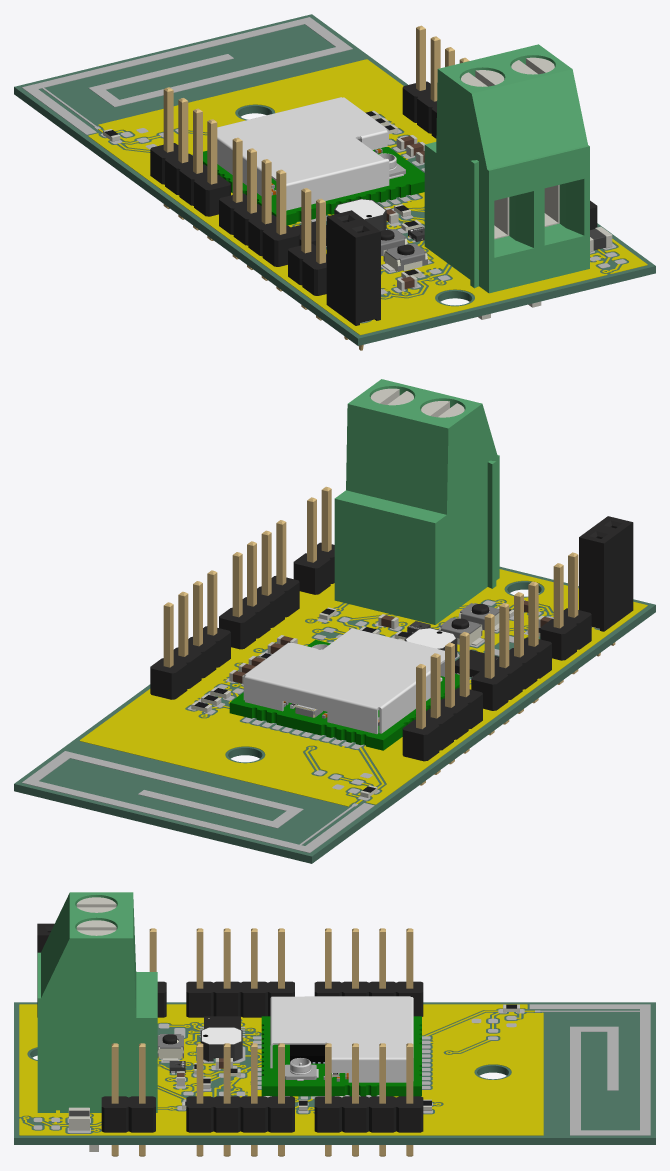
The model's file is SmartPot_assemble.glb.
The picture shows the model from 3 angles, top to bottom: view 1: azimuth 30°, elevation 25°; view 2: azimuth 150°, elevation 25°; view 3: azimuth 270°, elevation 25°; orthographic projection. The views are drawn at different scales.
Visible parts, largest first — view 1: =>[0:1:1:101], =>[0:1:1:107], =>[0:1:1:104], =>[0:1:1:7], =>[0:1:1:103] (×3), =>[0:1:1:105], =>[0:1:1:91], =>[0:1:1:97], =>[0:1:1:95], =>[0:1:1:5]; view 2: =>[0:1:1:101], =>[0:1:1:104], =>[0:1:1:107], =>[0:1:1:103] (×4), =>[0:1:1:7], =>[0:1:1:105], =>[0:1:1:97] (×2), =>[0:1:1:91], =>[0:1:1:5], =>[0:1:1:95]; view 3: =>[0:1:1:104], =>[0:1:1:107], =>[0:1:1:101], =>[0:1:1:103] (×4), =>[0:1:1:7], =>[0:1:1:105], =>[0:1:1:97] (×2), =>[0:1:1:5], =>[0:1:1:95], =>[0:1:1:93], =>[0:1:1:99], =>[0:1:1:91].
Part boxes in pixels (bbox=[...]): =>[0:1:1:101]: bbox=[424, 44, 589, 319]; =>[0:1:1:107]: bbox=[14, 14, 655, 345]; =>[0:1:1:104]: bbox=[88, 59, 647, 335]; =>[0:1:1:7]: bbox=[203, 97, 424, 225]; =>[0:1:1:103] (×3): bbox=[150, 25, 469, 291]; =>[0:1:1:105]: bbox=[22, 17, 626, 322]; =>[0:1:1:91]: bbox=[326, 210, 380, 350]; =>[0:1:1:97]: bbox=[288, 188, 326, 320]; =>[0:1:1:95]: bbox=[382, 243, 429, 271]; =>[0:1:1:5]: bbox=[334, 198, 386, 231]; =>[0:1:1:101]: bbox=[334, 379, 499, 624]; =>[0:1:1:104]: bbox=[79, 569, 647, 806]; =>[0:1:1:107]: bbox=[14, 566, 655, 863]; =>[0:1:1:103] (×4): bbox=[150, 520, 551, 785]; =>[0:1:1:7]: bbox=[229, 627, 459, 750]; =>[0:1:1:105]: bbox=[22, 600, 599, 853]; =>[0:1:1:97] (×2): bbox=[293, 486, 591, 684]; =>[0:1:1:91]: bbox=[579, 516, 633, 656]; =>[0:1:1:5]: bbox=[404, 628, 457, 658]; =>[0:1:1:95]: bbox=[439, 617, 484, 645]; =>[0:1:1:104]: bbox=[19, 1004, 543, 1135]; =>[0:1:1:107]: bbox=[14, 1002, 655, 1144]; =>[0:1:1:101]: bbox=[37, 892, 157, 1151]; =>[0:1:1:103] (×4): bbox=[186, 928, 423, 1156]; =>[0:1:1:7]: bbox=[261, 996, 421, 1096]; =>[0:1:1:105]: bbox=[33, 1004, 650, 1135]; =>[0:1:1:97] (×2): bbox=[101, 928, 166, 1156]; =>[0:1:1:5]: bbox=[200, 1027, 242, 1061]; =>[0:1:1:95]: bbox=[157, 1034, 183, 1061]; =>[0:1:1:93]: bbox=[68, 1107, 89, 1130]; =>[0:1:1:99]: bbox=[203, 1016, 240, 1029]; =>[0:1:1:91]: bbox=[37, 923, 54, 1017].
Size of the model in its own units: 0.03 by 0.023 by 0.06.
